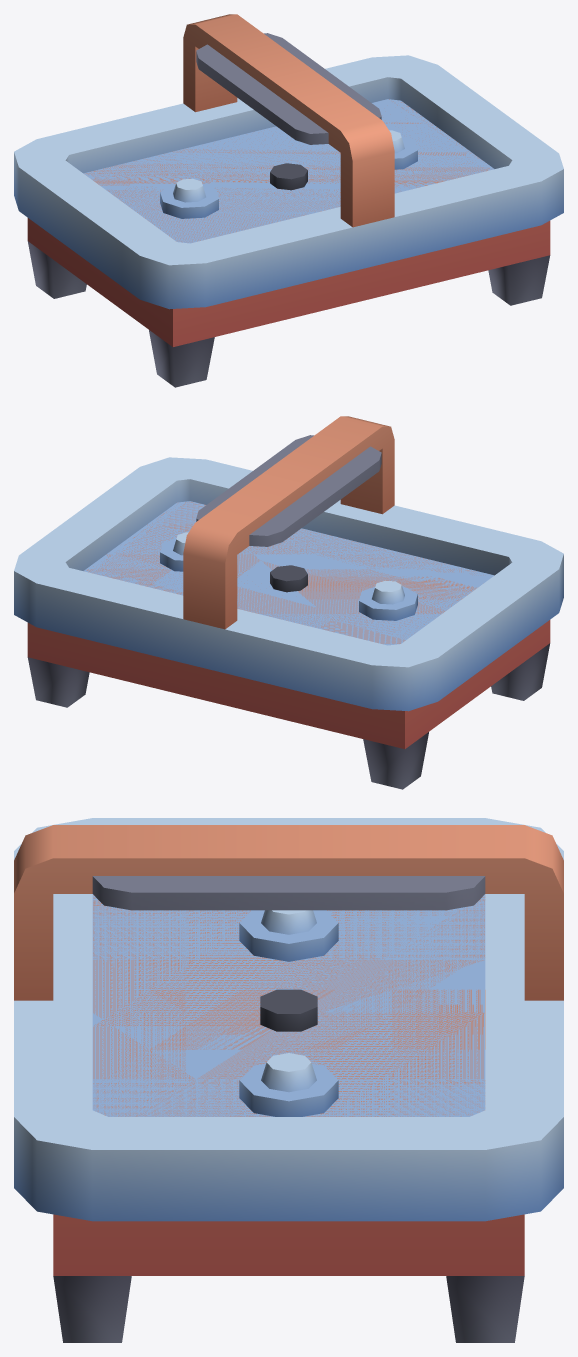
The model's file is air-hockey.obj.
3 views of the same model, one above another, from view 1: azimuth 30°, elevation 25°; view 2: azimuth 150°, elevation 25°; view 3: azimuth 270°, elevation 25° (orthographic). The views are drawn at different scales.
Parts seen in each view (by area): view 1: air-hockey, player-b, puck, player-a; view 2: air-hockey, player-b, puck, player-a; view 3: air-hockey, player-a, player-b, puck.
Boxes of the visible parts, x1,y1,x2,y2 form: air-hockey: [14, 14, 563, 387]; player-b: [160, 178, 218, 218]; puck: [270, 163, 307, 190]; player-a: [389, 130, 417, 169]; air-hockey: [14, 416, 563, 789]; player-b: [359, 580, 417, 620]; puck: [270, 565, 307, 592]; player-a: [160, 532, 188, 571]; air-hockey: [14, 818, 563, 1342]; player-a: [239, 1053, 338, 1116]; player-b: [239, 910, 338, 961]; puck: [260, 989, 317, 1031].
Bounding box in the file's own units: 1 × 0.5 × 0.7.
